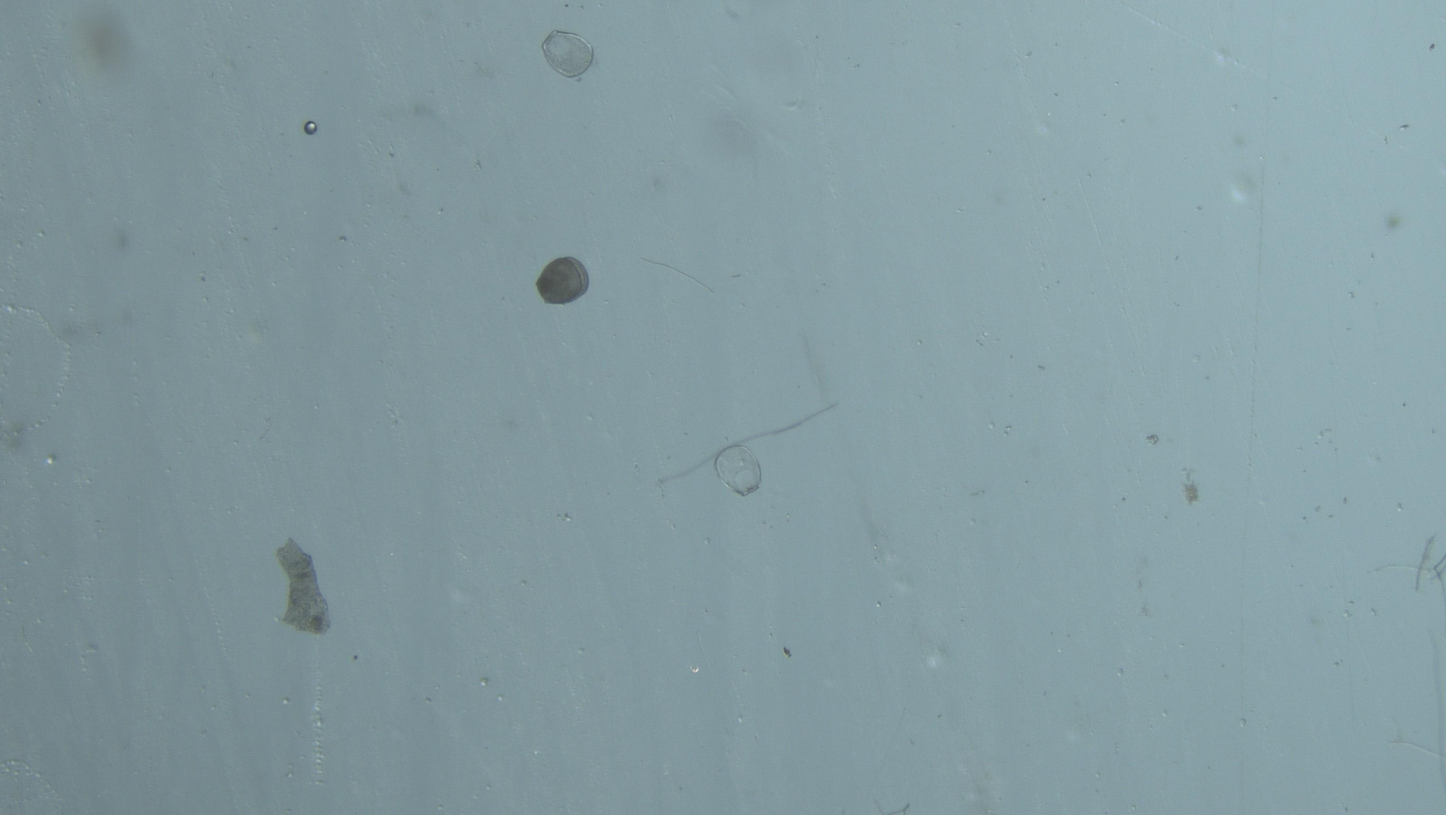dead: (542, 31, 594, 78), (715, 445, 762, 496)
live: (536, 257, 589, 305)
